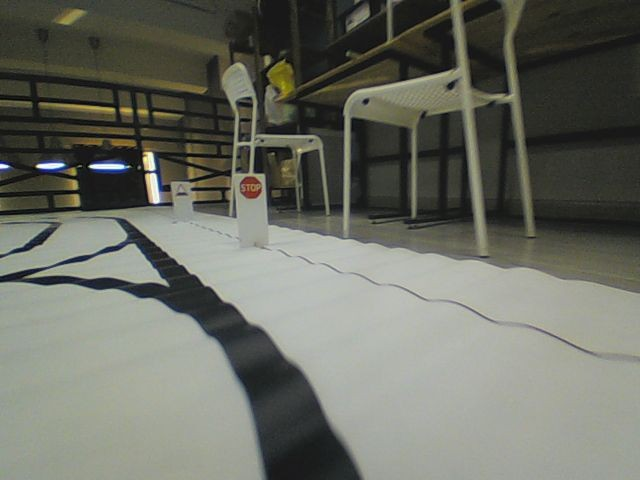Nerov: (174, 183, 187, 196)
Stop: (238, 175, 263, 199)
